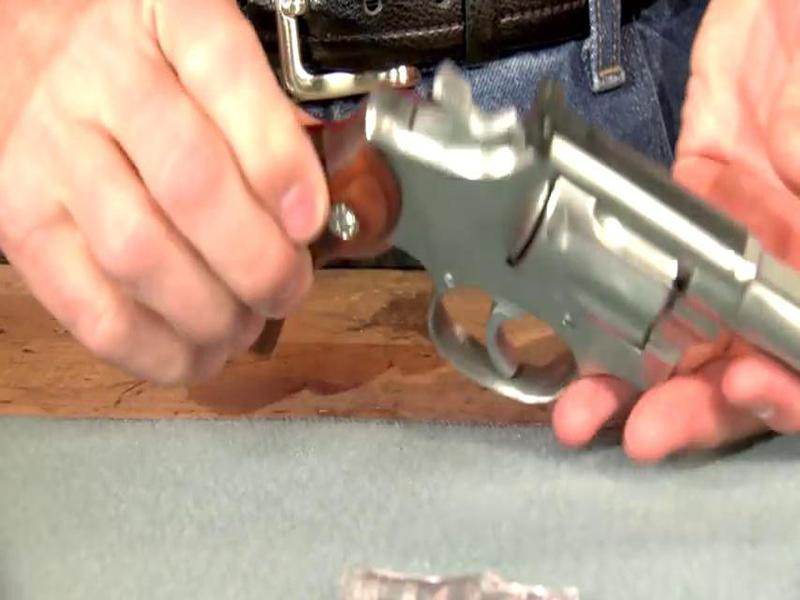Revolver: (228, 61, 800, 477)
